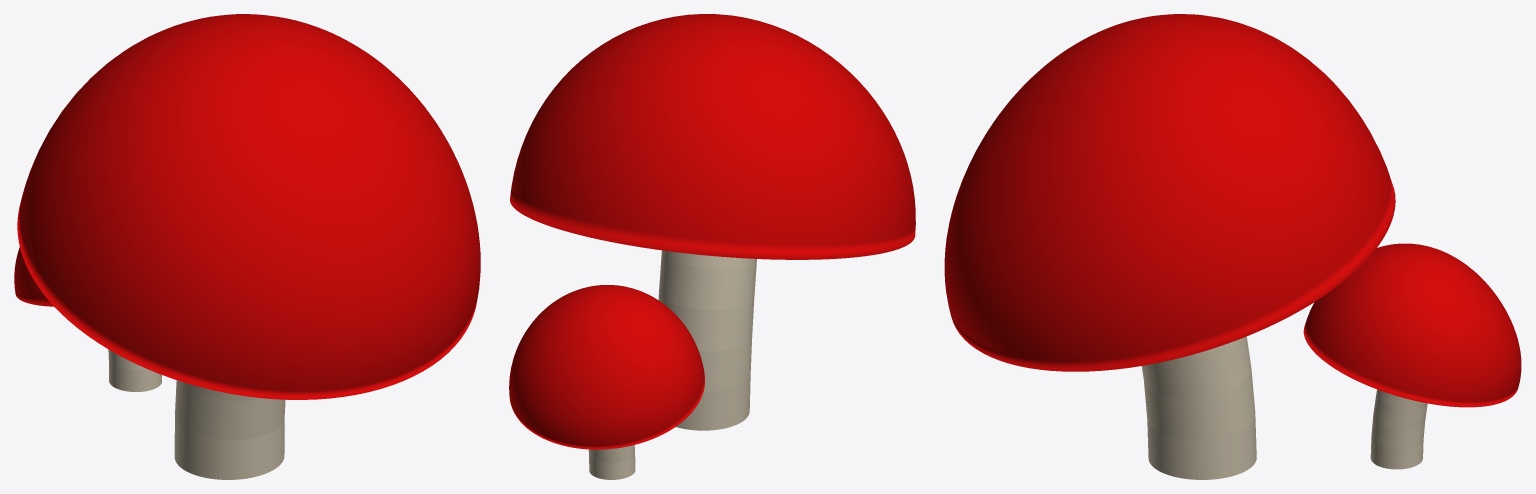
File: mushroom_a9422fc5.glb
The picture shows the model from 3 angles, left to right: view 1: azimuth 30°, elevation 25°; view 2: azimuth 150°, elevation 25°; view 3: azimuth 270°, elevation 25°; orthographic projection. The views are drawn at different scales.
Visible parts, largest first — view 1: Sphere001, Sphere002; view 2: Sphere001, Sphere002; view 3: Sphere001, Sphere002.
Part boxes in pixels (x1,y1,x2,y2): Sphere001: (17,14,480,479); Sphere002: (14,247,161,391); Sphere001: (510,14,915,430); Sphere002: (509,285,704,479); Sphere001: (944,14,1395,479); Sphere002: (1303,243,1521,469).
Size of the model in its own units: 92.31 by 93.96 by 116.
